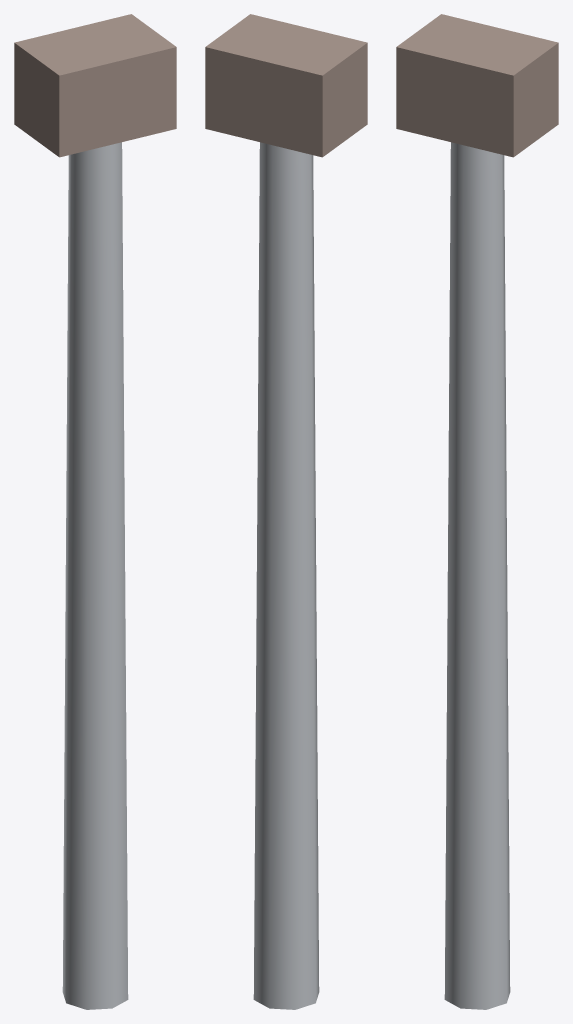
Rendered from prop.glb.
3 renders of one model, left to right at view 1: azimuth 30°, elevation 25°; view 2: azimuth 150°, elevation 25°; view 3: azimuth 330°, elevation 25°, orthographic.
Visible parts, largest first — view 1: Metal, Cloth; view 2: Metal, Cloth; view 3: Metal, Cloth.
Part boxes in pixels (<box>): Metal: <box>62,142,128,1009</box>; Cloth: <box>14,14,176,157</box>; Metal: <box>253,142,319,1009</box>; Cloth: <box>205,14,367,157</box>; Metal: <box>444,142,510,1009</box>; Cloth: <box>396,14,558,157</box>.
Size of the model in its own units: 0.06 by 0.465 by 0.04.
